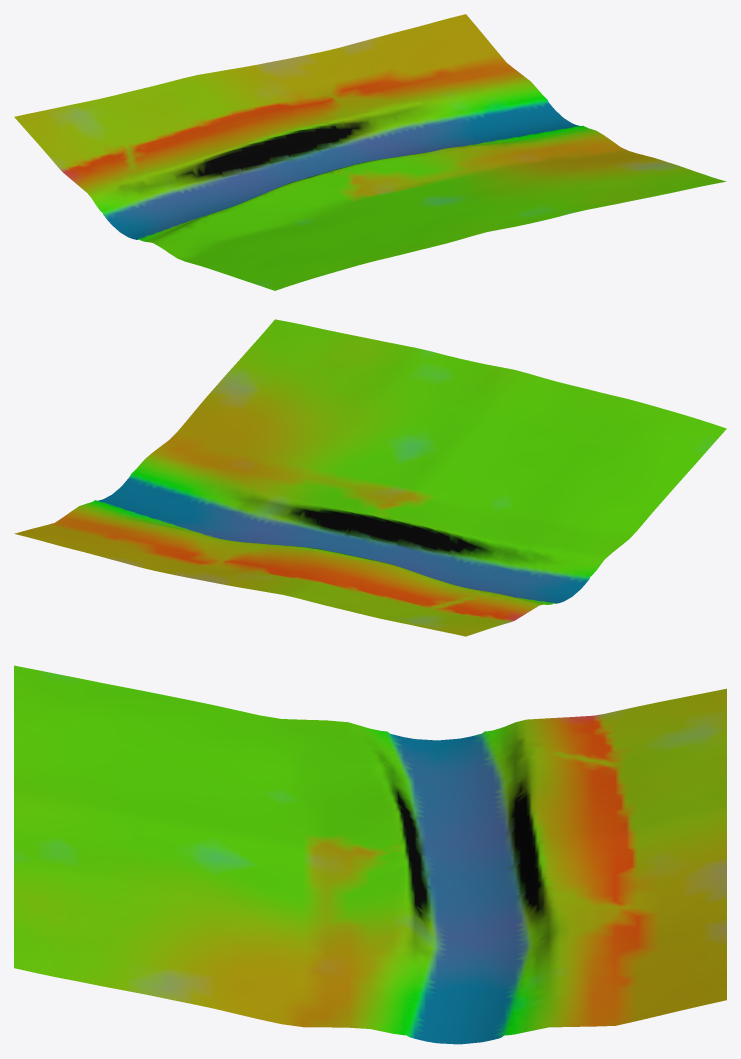
File: SM_BM_BT_Terrain_6_1.glb
The picture shows the model from 3 angles, top to bottom: view 1: azimuth 30°, elevation 25°; view 2: azimuth 150°, elevation 25°; view 3: azimuth 270°, elevation 25°; orthographic projection. The views are drawn at different scales.
Visible parts, largest first — view 1: SM_BM_BT_Terrain_6_1; view 2: SM_BM_BT_Terrain_6_1; view 3: SM_BM_BT_Terrain_6_1.
Boxes of the visible parts, x1=… form: SM_BM_BT_Terrain_6_1: x1=14, y1=14, x2=726, y2=290; SM_BM_BT_Terrain_6_1: x1=14, y1=319, x2=726, y2=636; SM_BM_BT_Terrain_6_1: x1=14, y1=665, x2=726, y2=1044.
Bounding box in the file's own units: 256 × 34.61 × 256.
